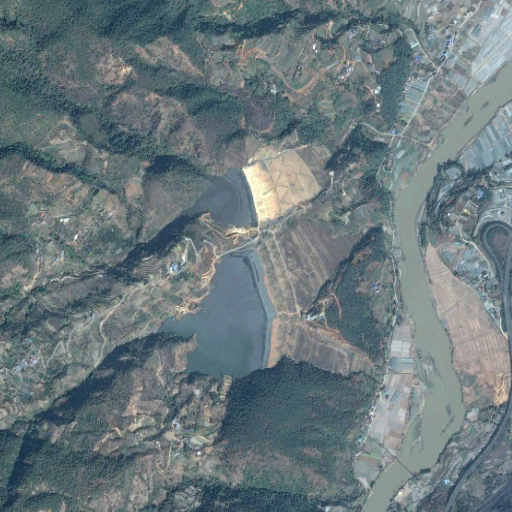tp: (156, 232, 382, 386), (127, 141, 333, 232)
